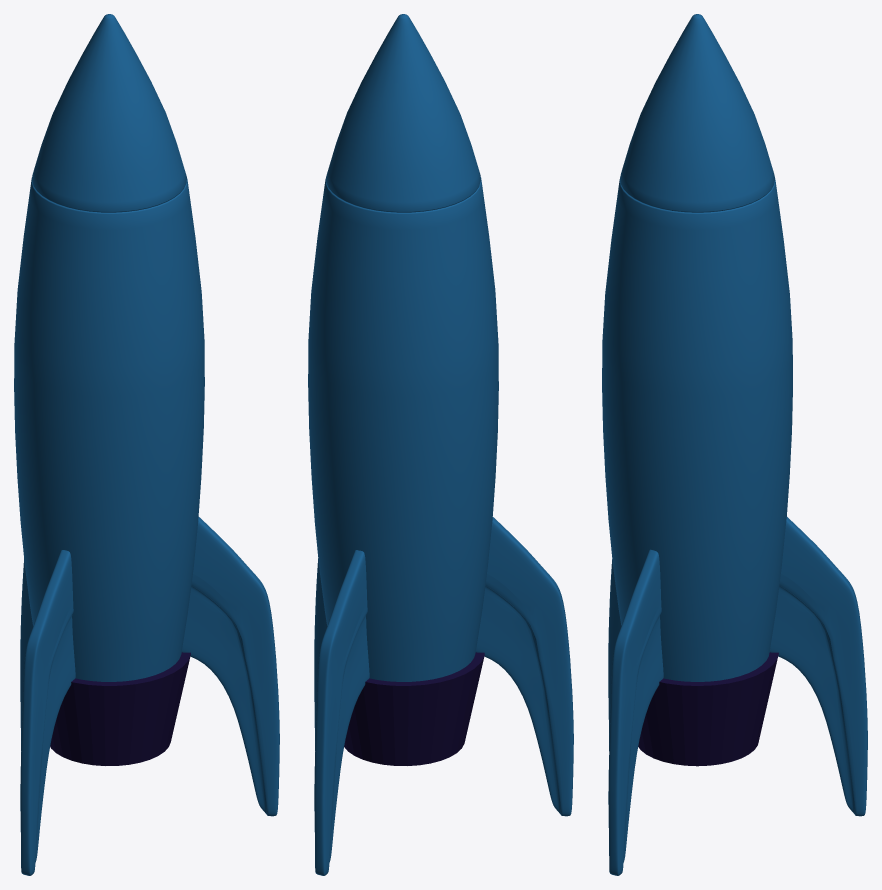
Rendered from ROCKET.glb.
3 views of the same model, side by side, from view 1: azimuth 30°, elevation 25°; view 2: azimuth 150°, elevation 25°; view 3: azimuth 270°, elevation 25° (orthographic).
Parts seen in each view (by area): view 1: Cylinder.1, Cube_0.1, Cylinder.003, Cylinder.002; view 2: Cylinder.1, Cube_0.1, Cylinder.003, Cylinder.002; view 3: Cylinder.1, Cube_0.1, Cylinder.003, Cylinder.002.
Boxes of the visible parts, box(x1,y1,x2,y2) form: Cylinder.1: box(14, 177, 204, 681); Cube_0.1: box(20, 517, 279, 875); Cylinder.003: box(32, 14, 186, 212); Cylinder.002: box(50, 652, 190, 765); Cylinder.1: box(308, 177, 498, 681); Cube_0.1: box(314, 517, 573, 875); Cylinder.003: box(326, 14, 480, 212); Cylinder.002: box(344, 652, 484, 765); Cylinder.1: box(602, 178, 792, 681); Cube_0.1: box(608, 517, 867, 875); Cylinder.003: box(620, 14, 774, 212); Cylinder.002: box(638, 652, 778, 766).
Size of the model in its own units: 10.12 by 29.93 by 9.01.
